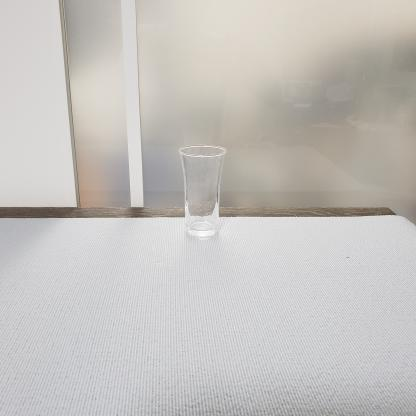glass: (170, 138, 241, 244)
